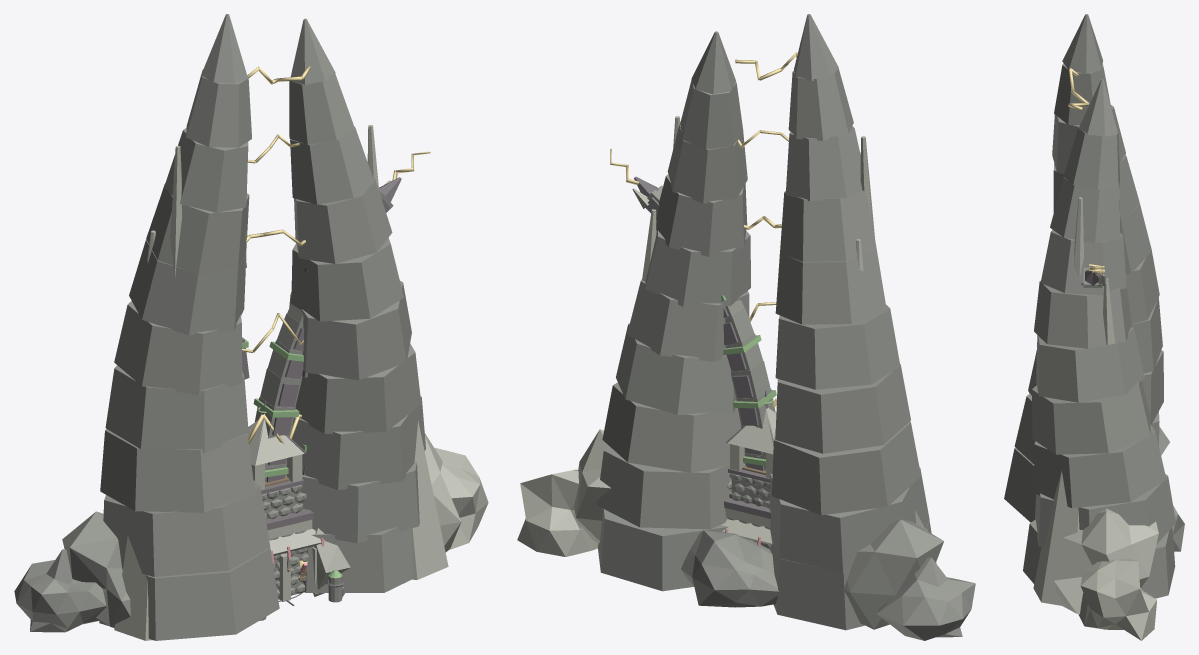
The model's file is ThunderF30Kit.fbx.
3 renders of one model, left to right at view 1: azimuth 30°, elevation 25°; view 2: azimuth 150°, elevation 25°; view 3: azimuth 270°, elevation 25°, orthographic. The views are drawn at different scales.
Visible parts, largest first — view 1: ShatteredSkySpire__STONE, ShatteredSkySpire__TRIM, LightningCrownArch__STONE, LightningCrownArch__METAL, GaleLanternTower__TRIM, ShatteredSkySpire__GLOW, ObservatoryHall__TRIM, GaleLanternTower__STONE, LightningCrownArch__ACCENT, ObservatoryHall__STONE; view 2: ShatteredSkySpire__STONE, ShatteredSkySpire__TRIM, LightningCrownArch__STONE, LightningCrownArch__METAL, GaleLanternTower__TRIM, GaleLanternTower__STONE, ShatteredSkySpire__GLOW, LightningCrownArch__ACCENT, ObservatoryHall__TRIM; view 3: ShatteredSkySpire__STONE, ShatteredSkySpire__TRIM, ShatteredSkySpire__GLOW.
Boxes of the visible parts, x1=… form: ShatteredSkySpire__STONE: x1=14, y1=14, x2=425, y2=640; ShatteredSkySpire__TRIM: x1=114, y1=125, x2=488, y2=640; LightningCrownArch__STONE: x1=255, y1=191, x2=393, y2=540; LightningCrownArch__METAL: x1=266, y1=177, x2=401, y2=530; GaleLanternTower__TRIM: x1=248, y1=419, x2=304, y2=489; ShatteredSkySpire__GLOW: x1=242, y1=66, x2=310, y2=444; ObservatoryHall__TRIM: x1=269, y1=529, x2=325, y2=601; GaleLanternTower__STONE: x1=261, y1=485, x2=306, y2=519; LightningCrownArch__ACCENT: x1=253, y1=292, x2=303, y2=477; ObservatoryHall__STONE: x1=273, y1=547, x2=310, y2=597; ShatteredSkySpire__STONE: x1=596, y1=14, x2=975, y2=640; ShatteredSkySpire__TRIM: x1=517, y1=116, x2=927, y2=556; LightningCrownArch__STONE: x1=645, y1=185, x2=775, y2=529; LightningCrownArch__METAL: x1=634, y1=176, x2=771, y2=518; GaleLanternTower__TRIM: x1=728, y1=408, x2=776, y2=478; GaleLanternTower__STONE: x1=727, y1=473, x2=770, y2=508; ShatteredSkySpire__GLOW: x1=735, y1=52, x2=797, y2=408; LightningCrownArch__ACCENT: x1=656, y1=221, x2=776, y2=466; ObservatoryHall__TRIM: x1=721, y1=519, x2=772, y2=552; ShatteredSkySpire__STONE: x1=1004, y1=14, x2=1184, y2=598; ShatteredSkySpire__TRIM: x1=1033, y1=197, x2=1158, y2=640; ShatteredSkySpire__GLOW: x1=1068, y1=68, x2=1089, y2=110.
Size of the model in its own units: 102 by 126 by 40.41.
